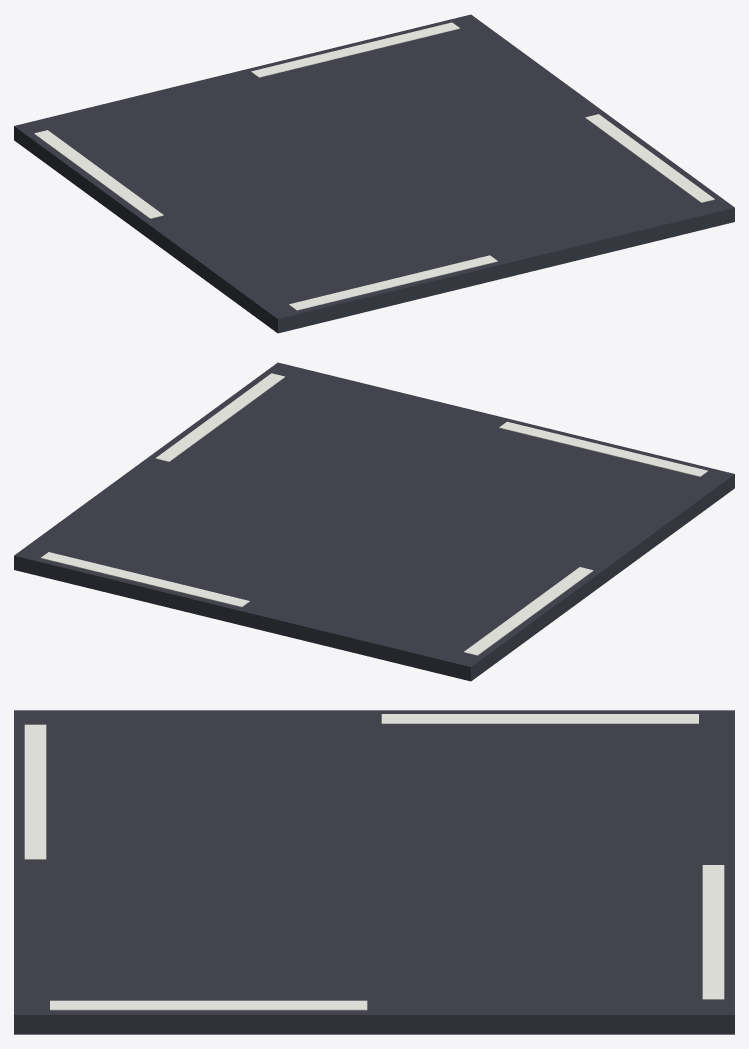
The model's file is env_road_cross.fbx.
3 views of the same model, one above another, from view 1: azimuth 30°, elevation 25°; view 2: azimuth 150°, elevation 25°; view 3: azimuth 270°, elevation 25° (orthographic). The views are drawn at different scales.
Parts seen in each view (by area): view 1: env_road_cross_geo; view 2: env_road_cross_geo; view 3: env_road_cross_geo.
Boxes of the visible parts, x1=… form: env_road_cross_geo: x1=14, y1=14, x2=734, y2=333; env_road_cross_geo: x1=14, y1=362, x2=734, y2=681; env_road_cross_geo: x1=14, y1=710, x2=734, y2=1034.
Bounding box in the file's own units: 10 × 0.312 × 10.
